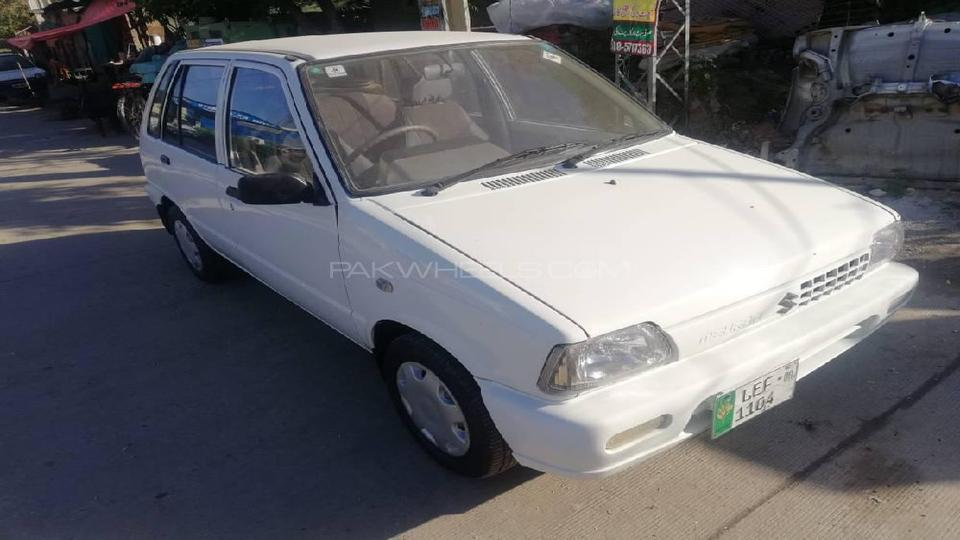NumberPlate: (706, 357, 806, 441)
